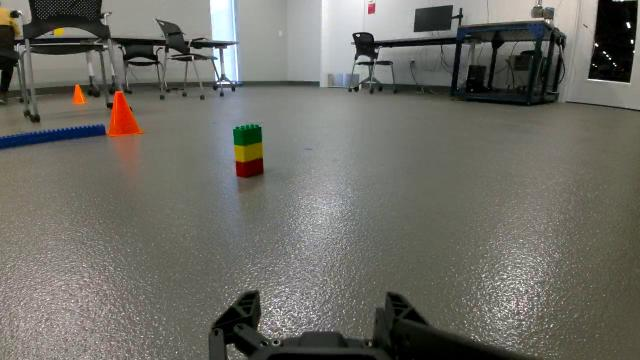lego: (222, 118, 284, 183)
